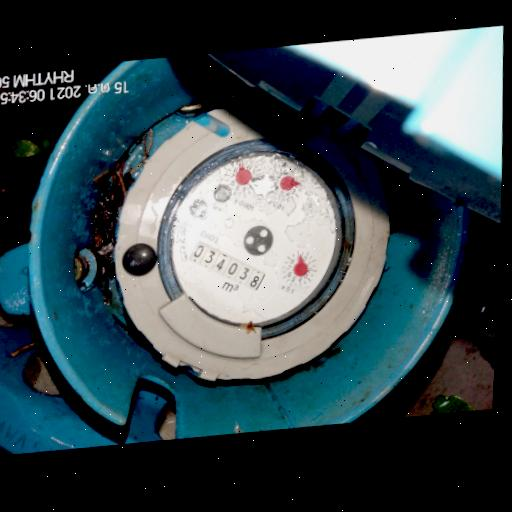0: (189, 241, 209, 265), (223, 257, 243, 280)
3: (199, 246, 220, 269), (234, 263, 255, 285)
4: (210, 252, 232, 275)
8: (245, 269, 265, 290)
border_water_meter_number: (184, 233, 271, 300)
